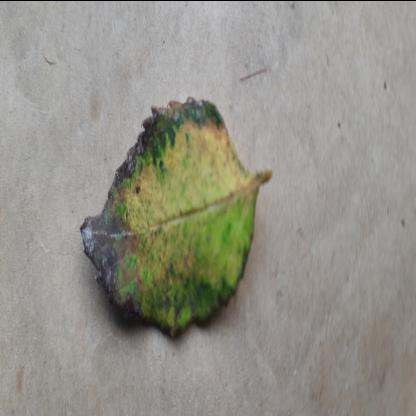black-spot: (80, 86, 256, 348)
